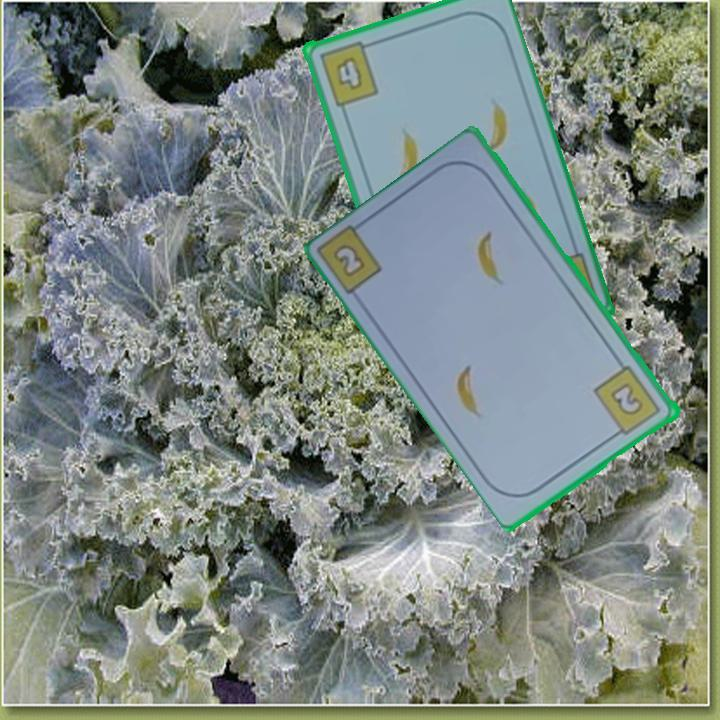2b: (590, 362, 665, 441), (333, 243, 366, 277)
4b: (315, 36, 381, 109)
